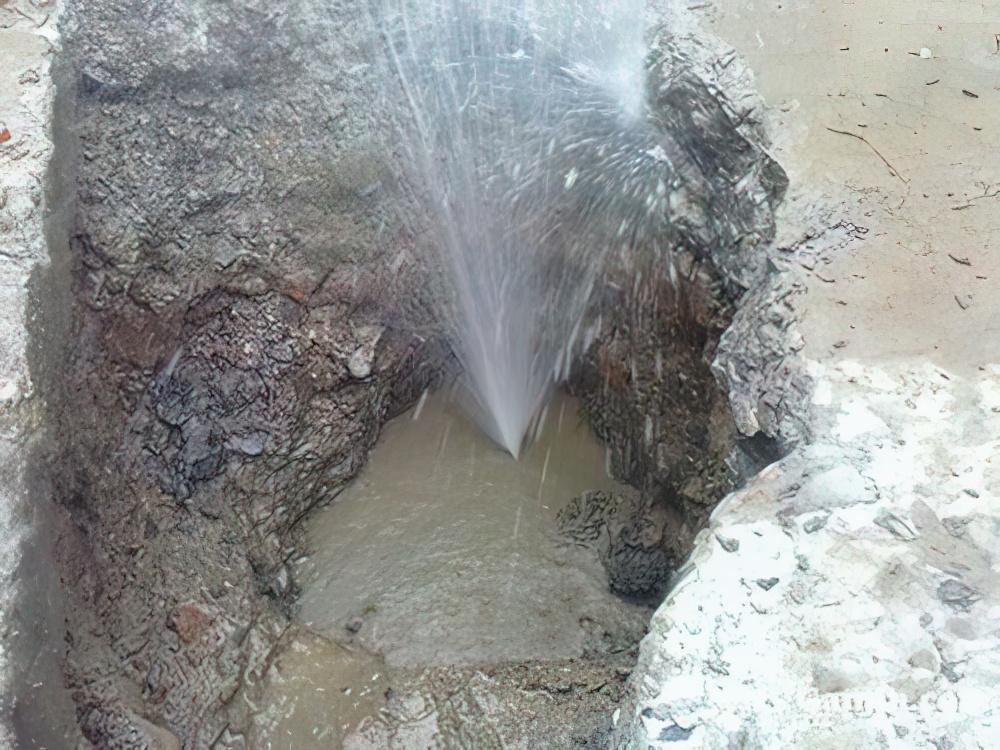pipe burst: (353, 0, 649, 467)
water accumulation: (284, 374, 703, 664)
